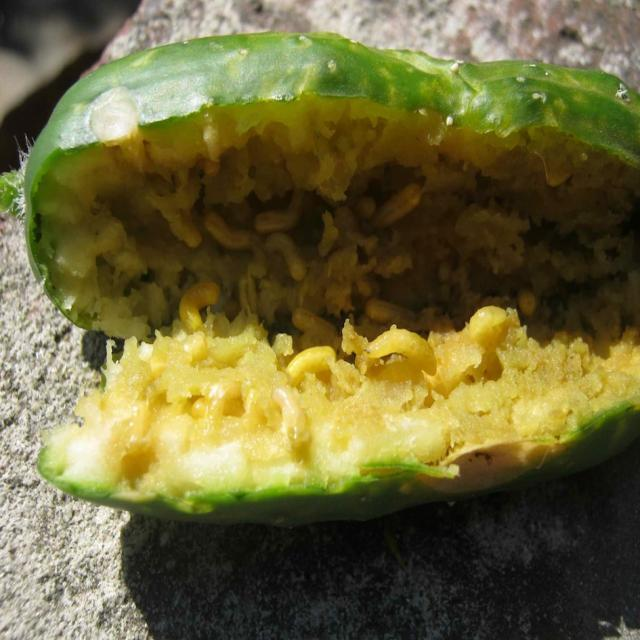Fruit fly: (26, 99, 640, 524)
